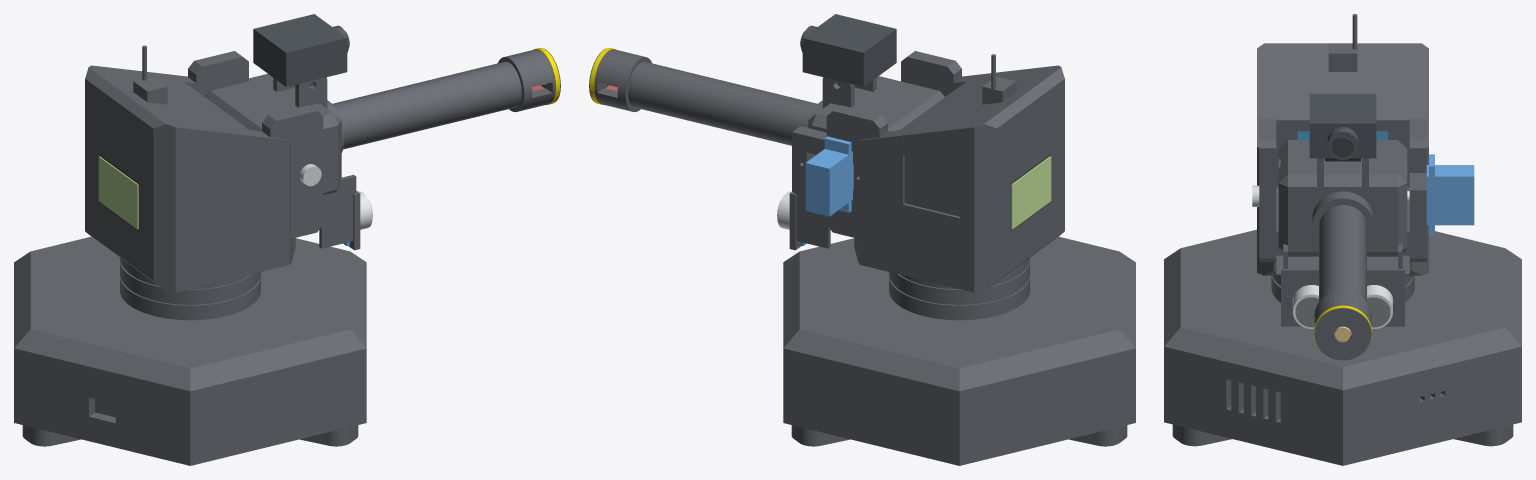
The model's file is torreta_fase2.glb.
The picture shows the model from 3 angles, left to right: view 1: azimuth 30°, elevation 25°; view 2: azimuth 150°, elevation 25°; view 3: azimuth 270°, elevation 25°; orthographic projection.
Visible parts, largest first — view 1: =>[0:1:1:4], =>[0:1:1:28], =>[0:1:1:48], =>[0:1:1:72], =>[0:1:1:46]; view 2: =>[0:1:1:4], =>[0:1:1:28], =>[0:1:1:48], =>[0:1:1:72], =>[0:1:1:30], =>[0:1:1:46]; view 3: =>[0:1:1:4], =>[0:1:1:48], =>[0:1:1:28], =>[0:1:1:72], =>[0:1:1:30], =>[0:1:1:74], =>[0:1:1:64], =>[0:1:1:68], =>[0:1:1:32], =>[0:1:1:62], =>[0:1:1:66], =>[0:1:1:76].
Boxes of the visible parts, x1,y1,x2,y2 form: =>[0:1:1:4]: (14,236,366,465); =>[0:1:1:28]: (85,45,323,320); =>[0:1:1:48]: (205,48,560,250); =>[0:1:1:72]: (253,14,347,86); =>[0:1:1:46]: (98,156,138,229); =>[0:1:1:4]: (783,236,1135,465); =>[0:1:1:28]: (792,51,1064,320); =>[0:1:1:48]: (589,48,944,250); =>[0:1:1:72]: (802,14,896,86); =>[0:1:1:30]: (805,149,853,216); =>[0:1:1:46]: (1011,156,1051,229); =>[0:1:1:4]: (1164,229,1521,465); =>[0:1:1:48]: (1278,140,1407,360); =>[0:1:1:28]: (1257,14,1428,302); =>[0:1:1:72]: (1309,93,1376,158); =>[0:1:1:30]: (1426,165,1474,225); =>[0:1:1:74]: (1327,127,1358,160); =>[0:1:1:64]: (1295,297,1318,327); =>[0:1:1:68]: (1367,297,1390,327); =>[0:1:1:32]: (1429,154,1434,235); =>[0:1:1:62]: (1293,285,1318,328); =>[0:1:1:66]: (1367,285,1392,328); =>[0:1:1:76]: (1332,137,1353,157).
Size of the model in its own units: 0.2619 by 0.169 by 0.15.
